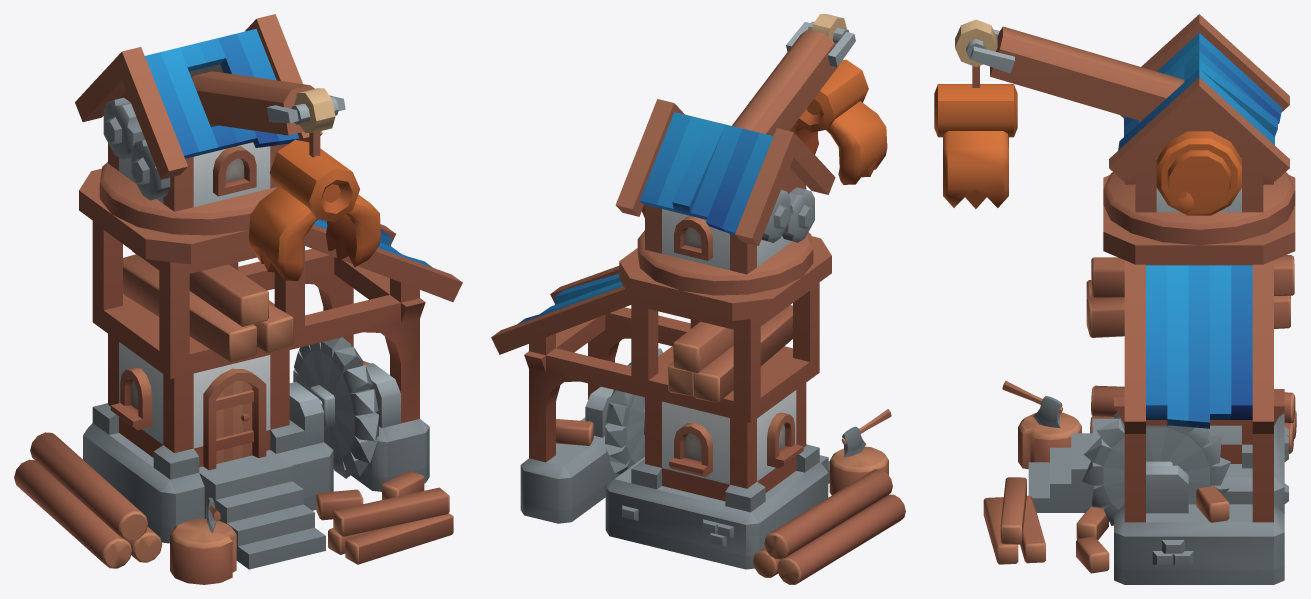
File: lumbermill_blue.glb
3 renders of one model, left to right at view 1: azimuth 30°, elevation 25°; view 2: azimuth 150°, elevation 25°; view 3: azimuth 270°, elevation 25°, orthographic. The views are drawn at different scales.
Visible parts, largest first — view 1: lumbermill_blue; view 2: lumbermill_blue; view 3: lumbermill_blue.
Boxes of the visible parts, x1,y1,x2,y2 form: lumbermill_blue: (14,14,462,584); lumbermill_blue: (491,14,905,584); lumbermill_blue: (934,14,1296,584).
Bounding box in the file's own units: 0.6835 × 0.8539 × 0.5946.
1 material, 1 textured.
